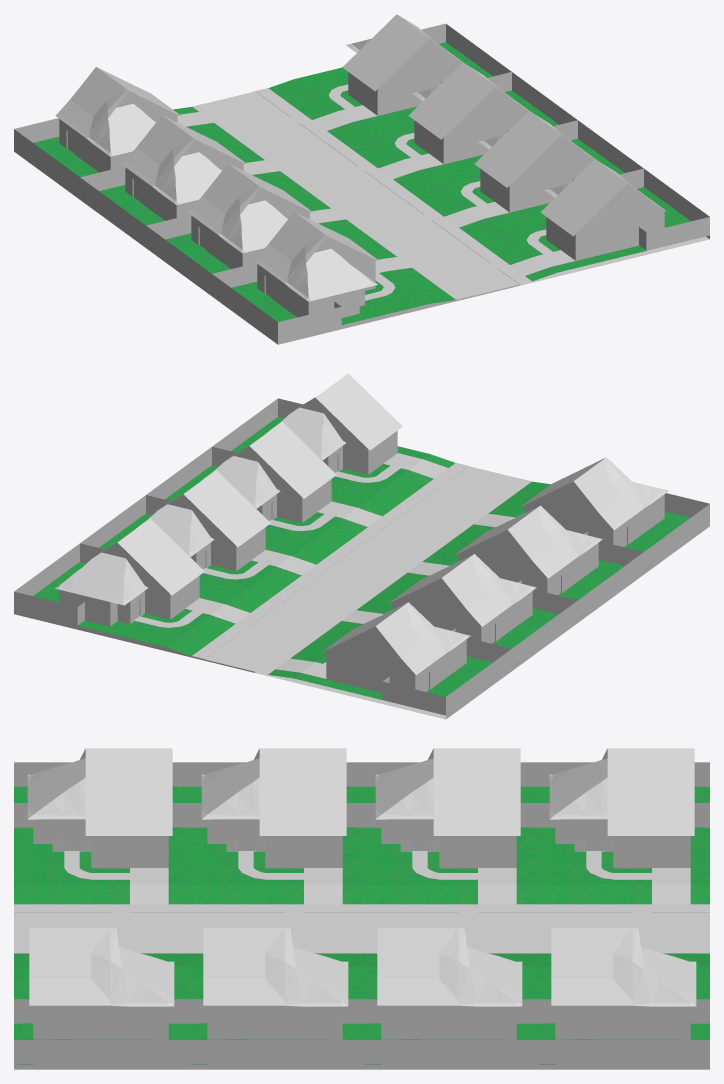
File: mpa.dae
3 views of the same model, one above another, from view 1: azimuth 30°, elevation 25°; view 2: azimuth 150°, elevation 25°; view 3: azimuth 270°, elevation 25° (orthographic). The views are drawn at different scales.
Parts seen in each view (by area): view 1: Cube.008; view 2: Cube.008; view 3: Cube.008.
Boxes of the visible parts, left/top/right/bottom form: Cube.008: left=14, top=14, right=709, bottom=344; Cube.008: left=14, top=373, right=709, bottom=719; Cube.008: left=14, top=748, right=709, bottom=1069.
Size of the model in its own units: 34 by 36 by 5.31.
